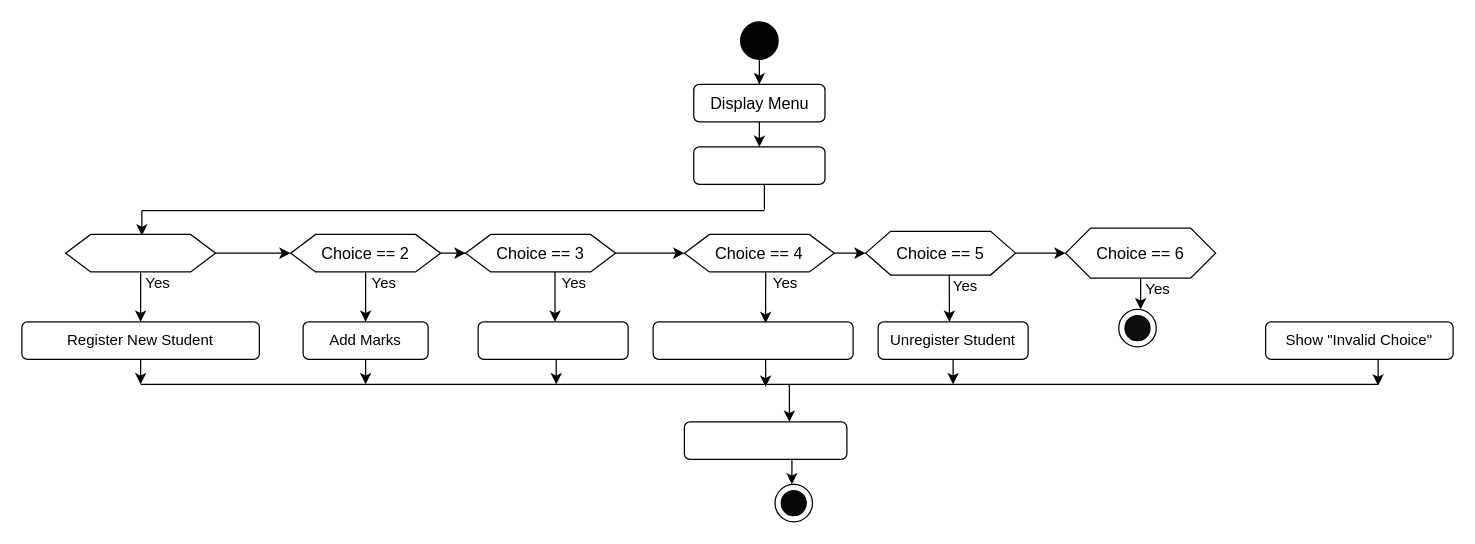
The diagram is 1475 pixels wide and 544 high, and some of its shapes have lost their labels. Here are the shapes that lost their labels. From the top down, the box of each, then its label:
(692, 146, 825, 184): Enter Choice
(64, 233, 216, 272): Choice == 1
(477, 321, 628, 359): Search Student
(652, 321, 853, 359): Display All Students
(683, 421, 847, 459): Loop Back Menu
